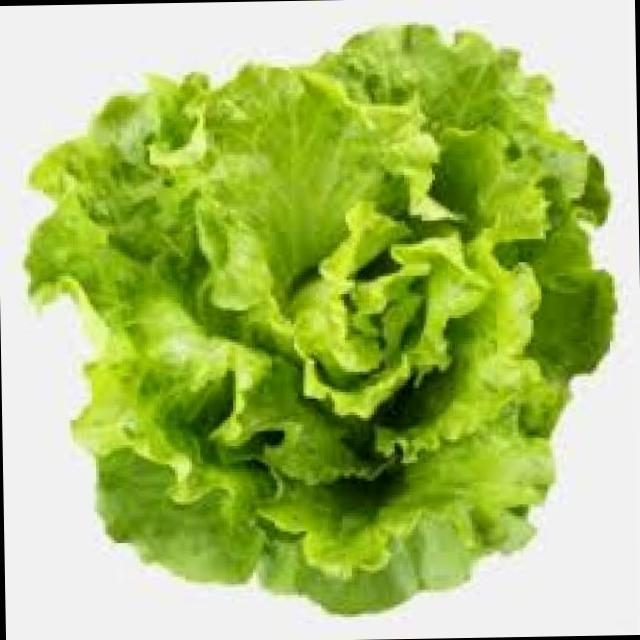Lettuce-Ready-to-Harvest: (26, 26, 614, 613)
